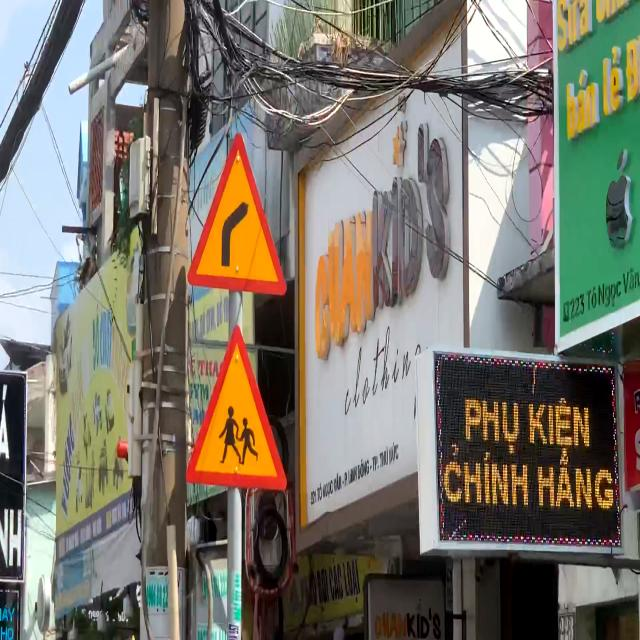W.201b: (181, 126, 292, 301)
W.225: (178, 310, 298, 501)
